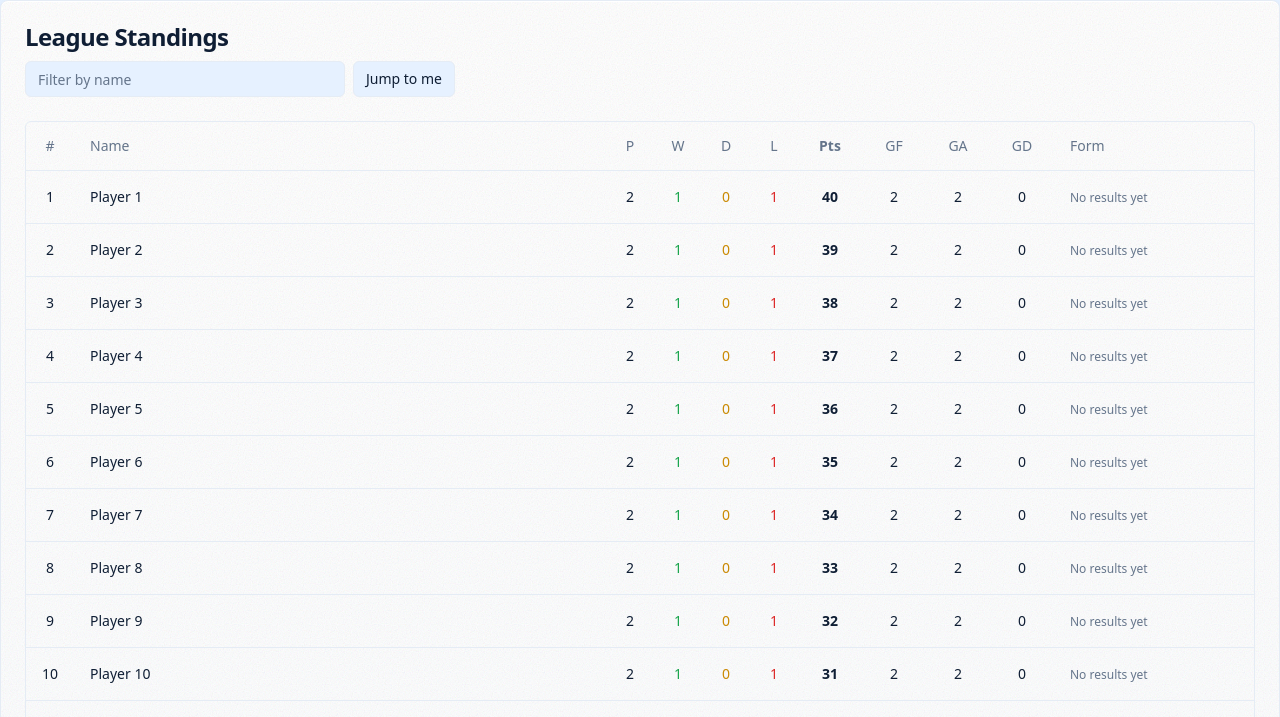
Test: LeagueStandings at scale › says so when nothing matches
Step 1. Type "Nobody" into the search field with test id "standings-filter" → [185, 79], box [25,61,345,97]
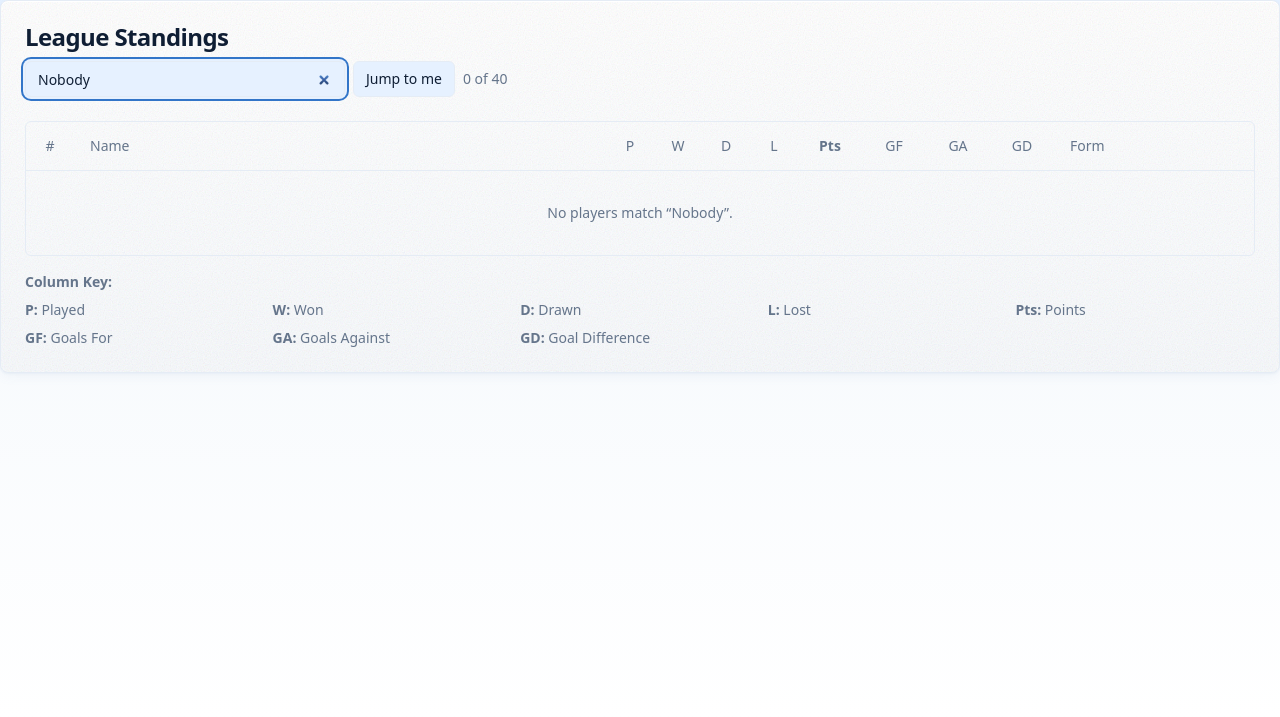
expect the text "No players match “Nobody”." is shown: met, box [547,202,733,222]
